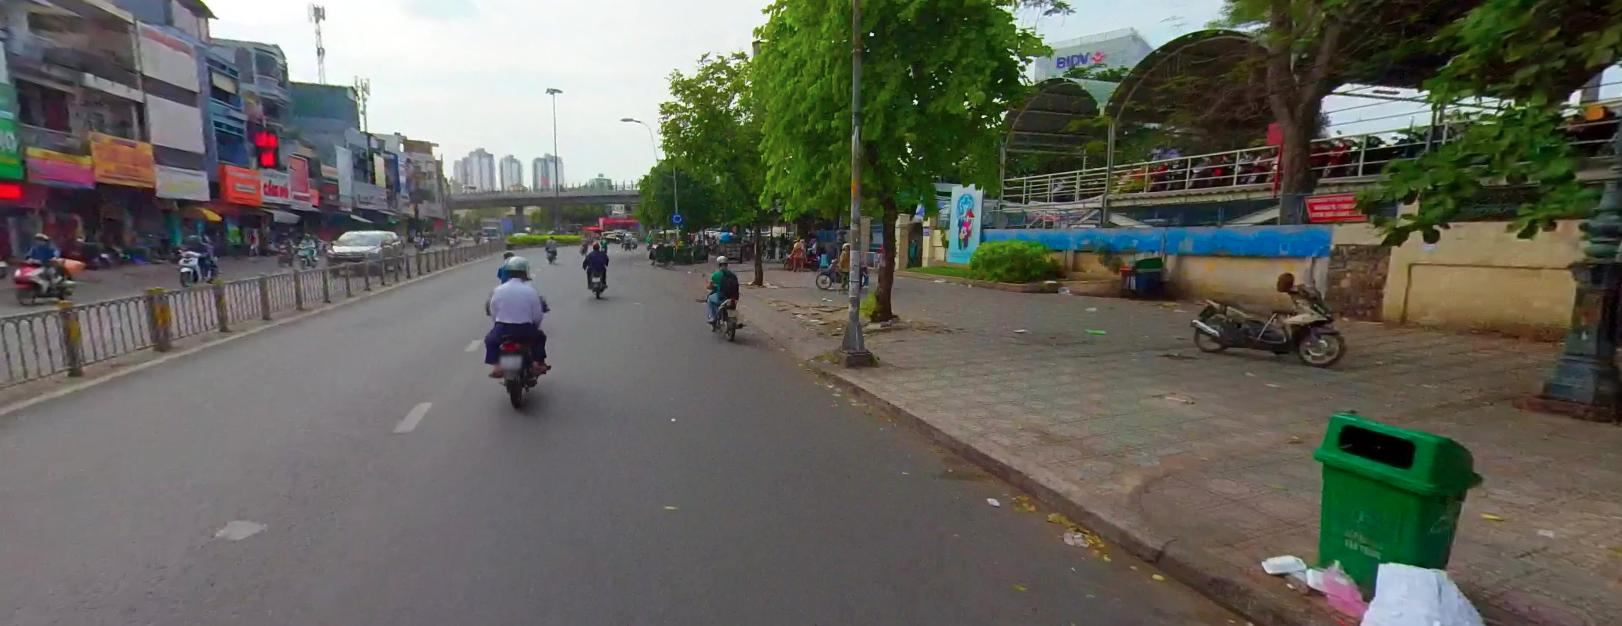Hieu lenh: (670, 211, 682, 223)
